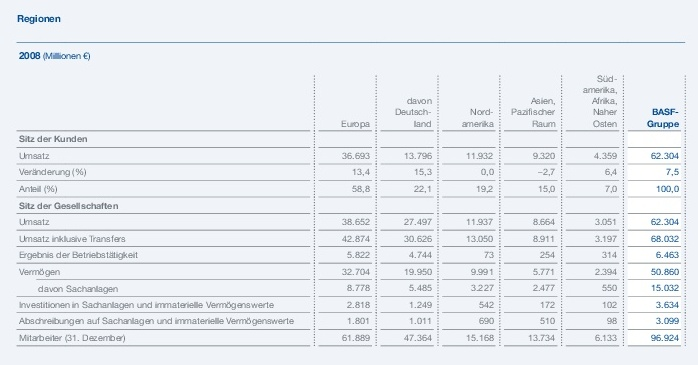table: (0, 0, 698, 365)
